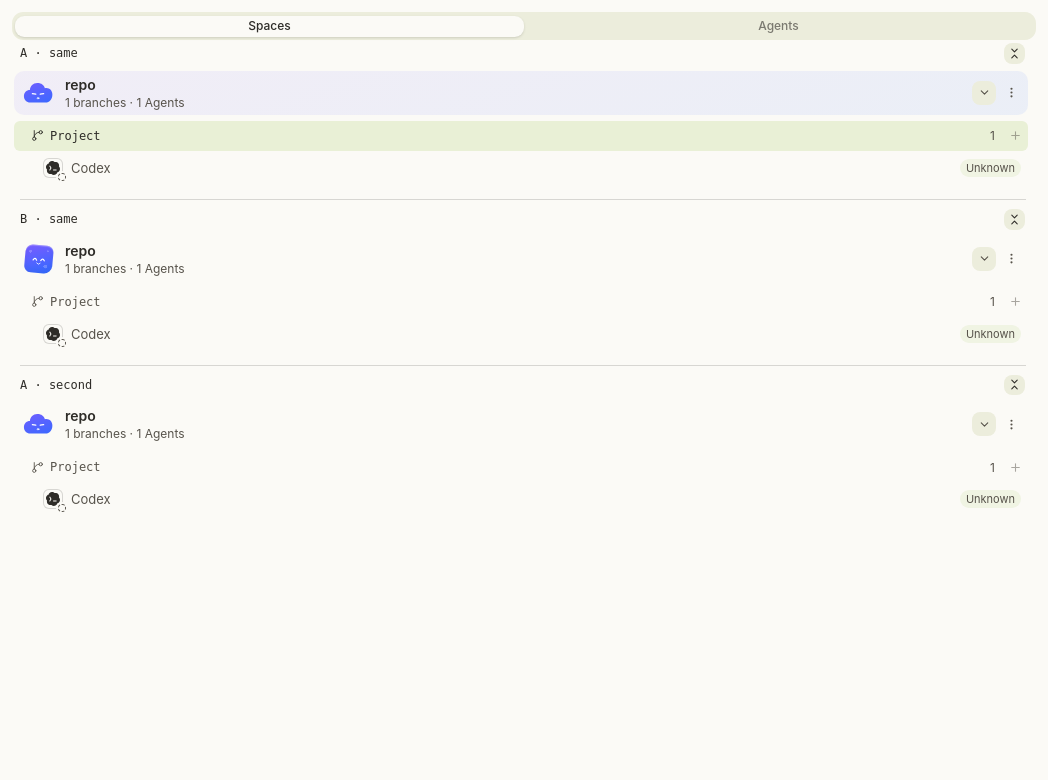
it: reports an actionable error when an Agent pane cannot be opened
Click the 1st list item "Codex Unknown". click: [91, 168]
box: [14, 153, 1028, 183]
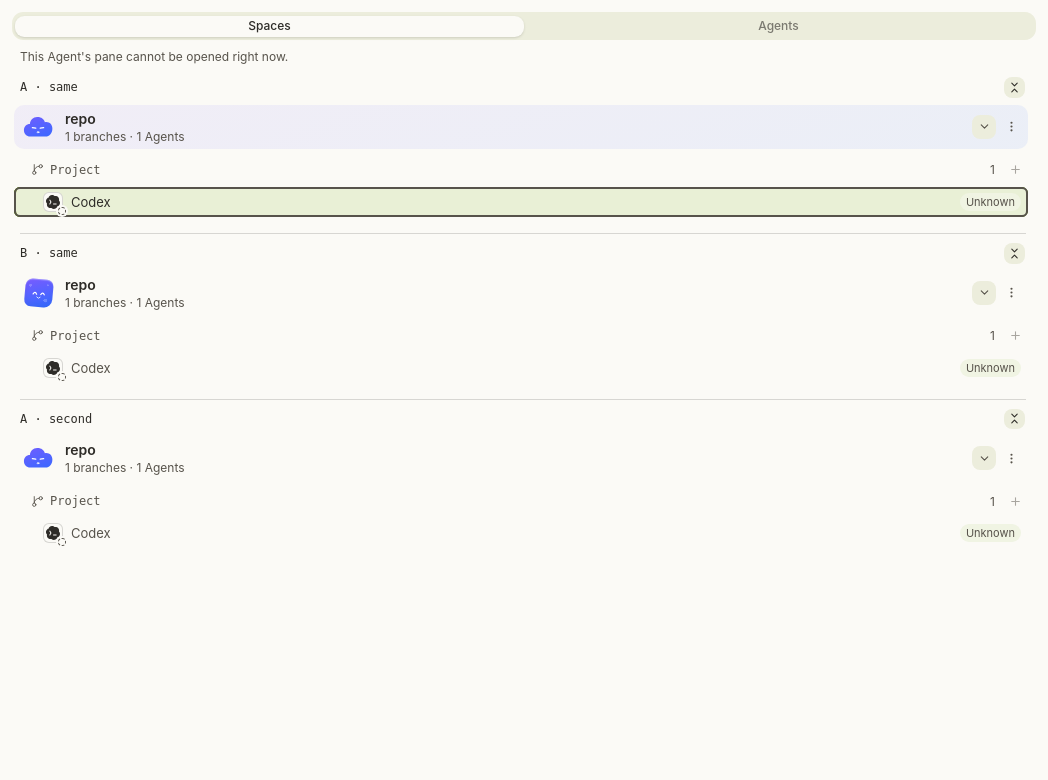
Expected: the message reads "This Agent's pane cannot be opened right now.", [20, 49, 288, 64]
